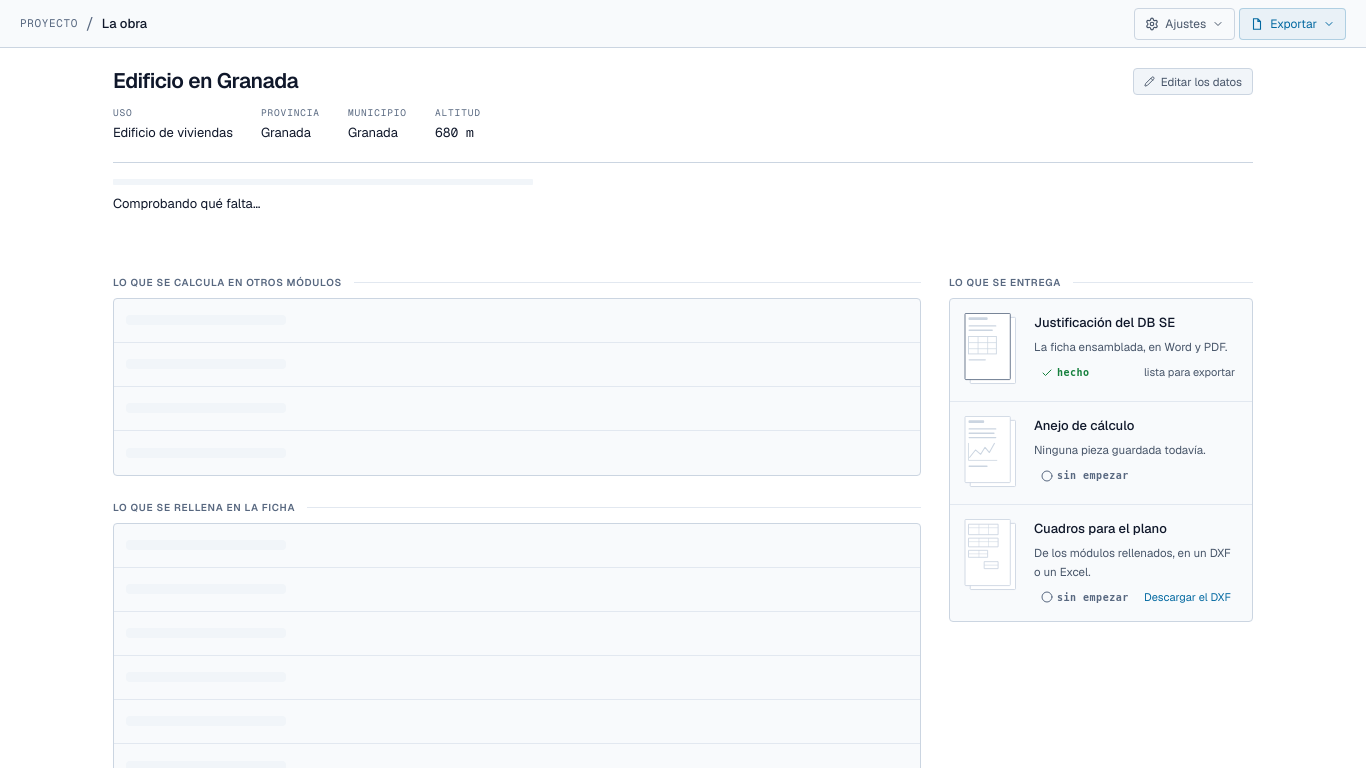
los cuadros para el plano › el menú de la barra ofrece el DXF y el Excel, y nada de la memoria
Click the button "Exportar". click: (1293, 24)
box: [1239,8,1346,40]
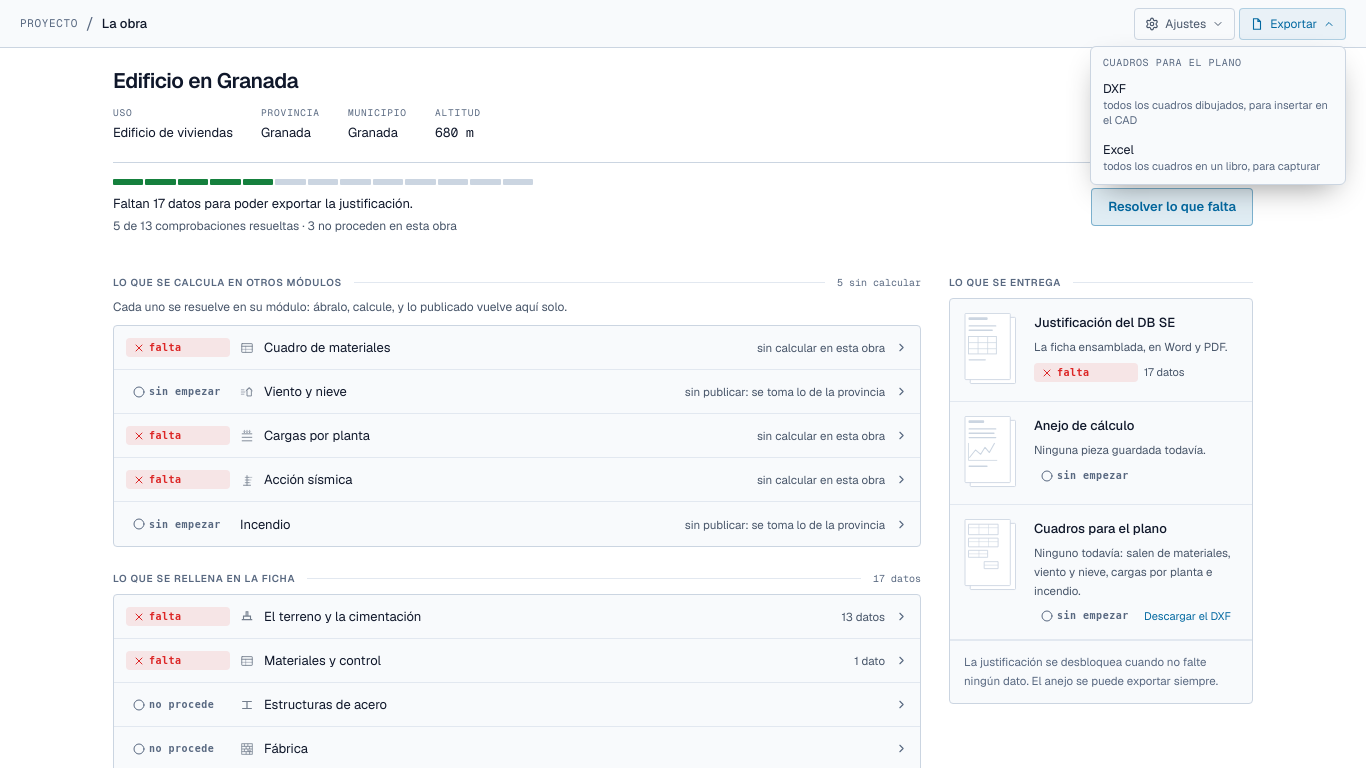
Now the menu named "Formatos de exportación" is shown, box [1090,46,1346,185]
Now the number of menu items is 2, box [1091,74,1345,134]; [1091,134,1345,180]
Now the menu item "DXF todos los cuadros dibujados, para insertar en el CAD" is shown, box [1091,74,1345,134]
